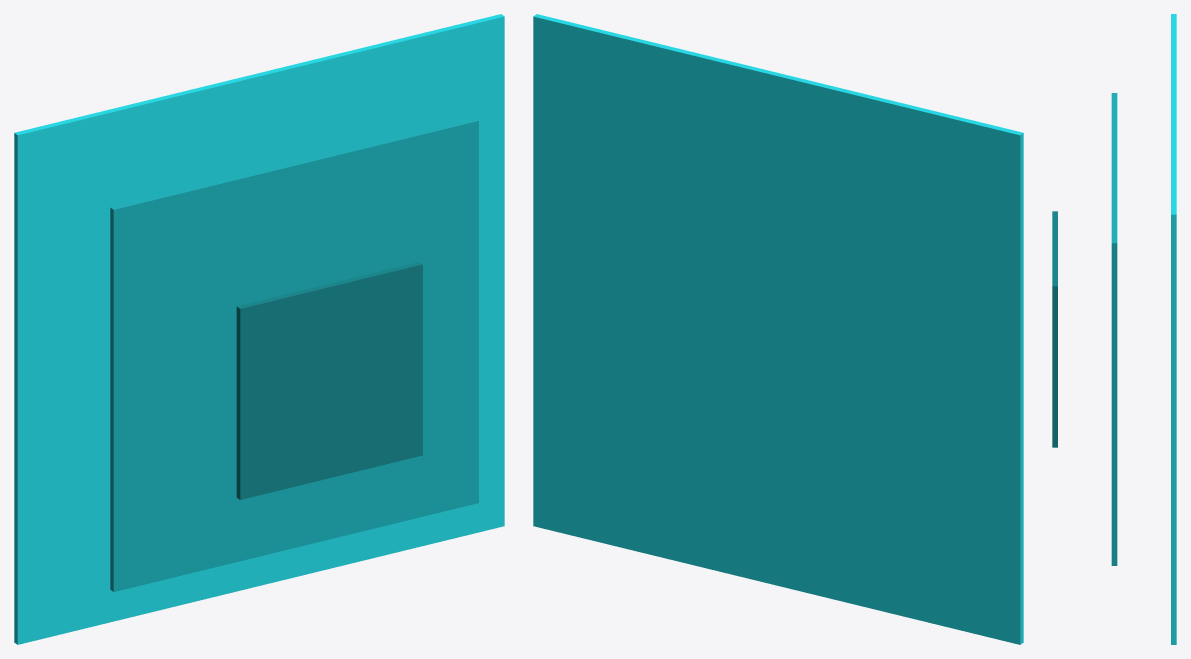
The model's file is ReflectionWave.fbx.
The picture shows the model from 3 angles, left to right: view 1: azimuth 30°, elevation 25°; view 2: azimuth 150°, elevation 25°; view 3: azimuth 270°, elevation 25°; orthographic projection. The views are drawn at different scales.
Parts seen in each view (by area): view 1: Cube.001, Cube.002, Cube.003; view 2: Cube.001; view 3: Cube.001, Cube.002, Cube.003.
Boxes of the visible parts, left/top/right/bottom form: Cube.001: left=14, top=14, right=504, bottom=644; Cube.002: left=110, top=118, right=478, bottom=591; Cube.003: left=236, top=262, right=422, bottom=499; Cube.001: left=533, top=14, right=1023, bottom=644; Cube.001: left=1171, top=14, right=1176, bottom=644; Cube.002: left=1111, top=93, right=1117, bottom=565; Cube.003: left=1052, top=211, right=1057, bottom=447.
Bounding box in the file's own units: 160 × 160 × 42.
